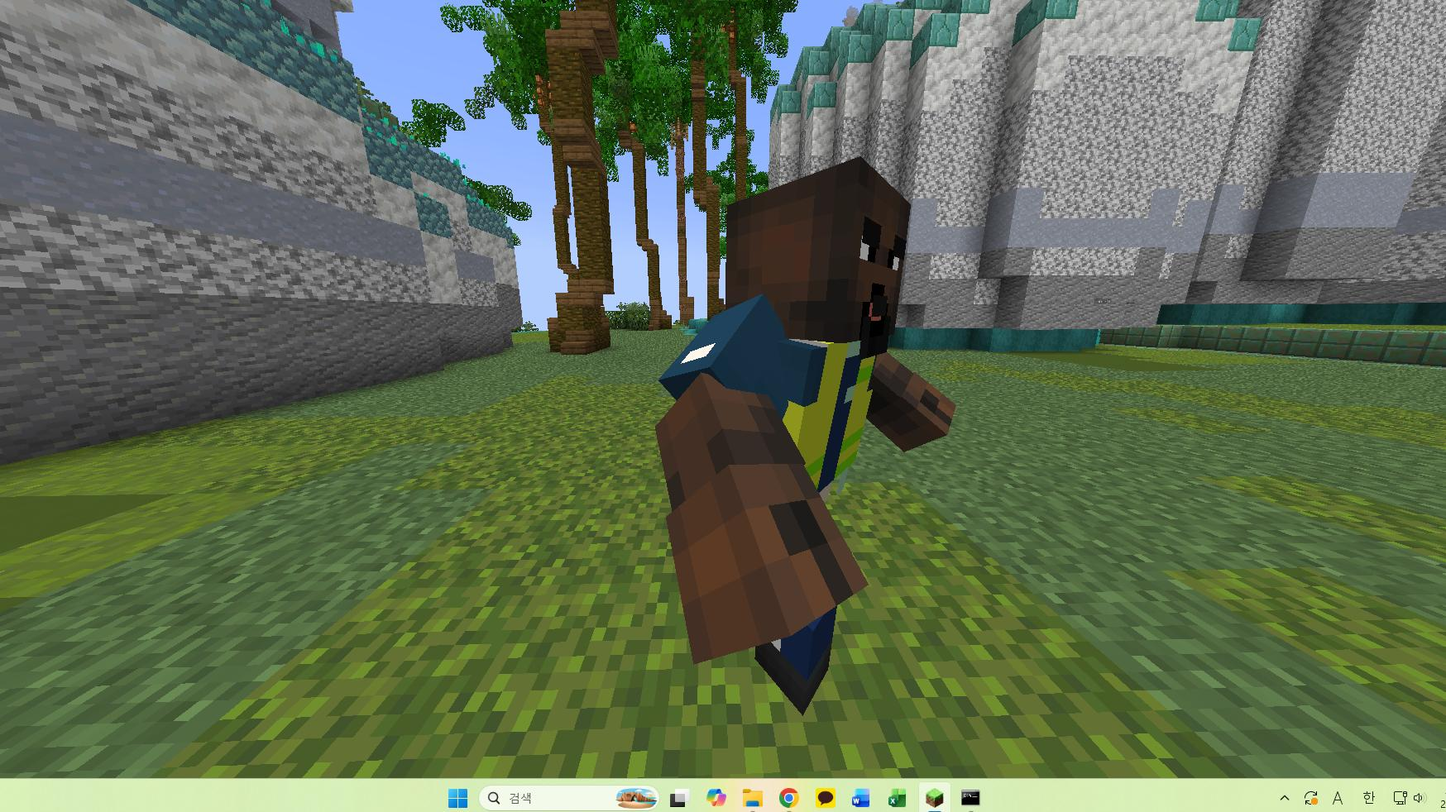Guardian: (656, 157, 954, 713)
